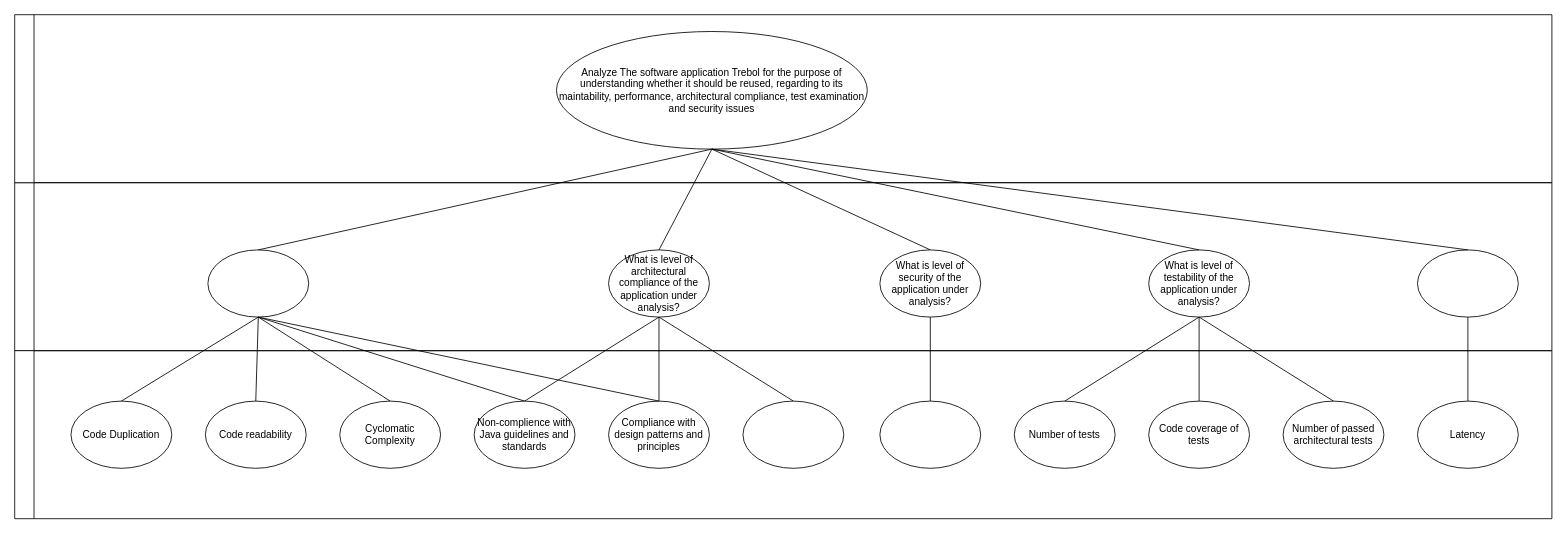
Image size: 1567x533. Some labels were removed from this diagram. The shapes that lost their labels are listed below. From the top down, each one's box as (x1, y1, x2, y2) in pixels, then its label:
(14, 14, 1552, 183): Conceptual Level
(207, 249, 309, 317): What is level of maintainability of the application under analysis?
(14, 182, 1552, 351): Operations Level
(1417, 249, 1518, 317): What is level of performance of the application under analysis?
(14, 350, 1552, 519): Quantitative Level
(742, 400, 844, 468): Number of unhandled exceptions
(879, 400, 981, 468): Number of technological vulnerabilities
